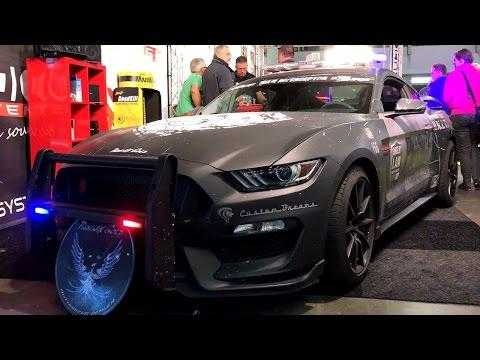Police Car: (64, 45, 470, 309)
